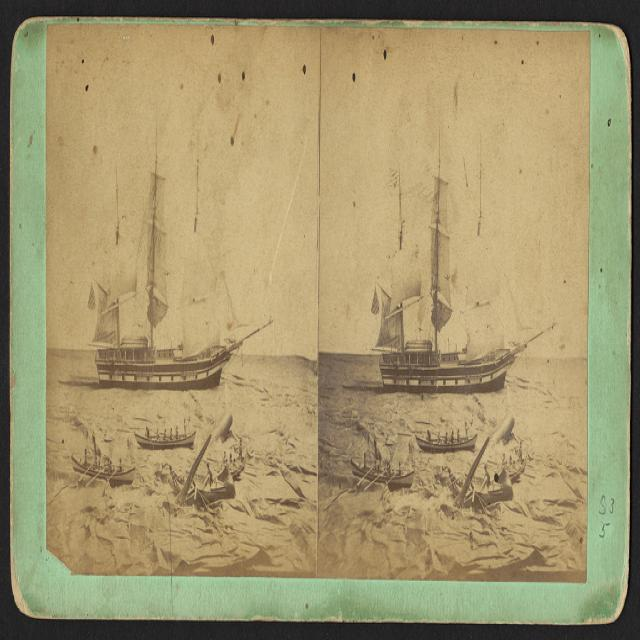Boat: (92, 122, 272, 390), (374, 126, 556, 387), (72, 459, 134, 490), (348, 463, 413, 490), (138, 427, 198, 453), (416, 433, 478, 455)
